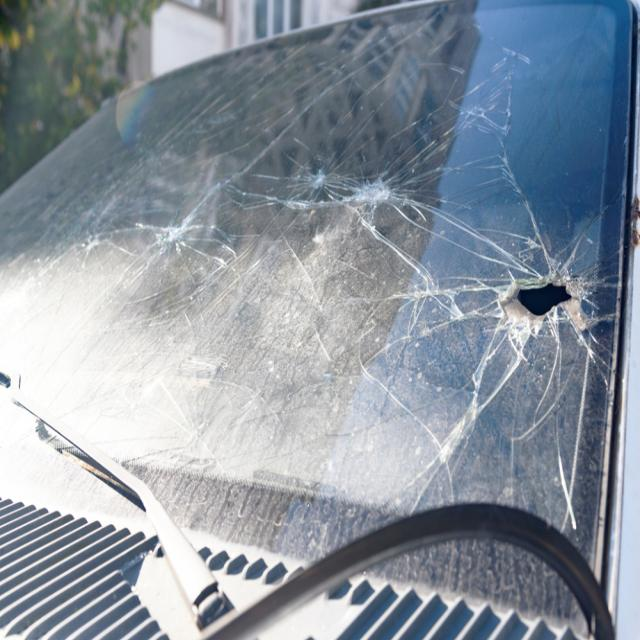Fissure: (0, 19, 355, 499), (353, 168, 626, 538), (358, 8, 534, 173)
